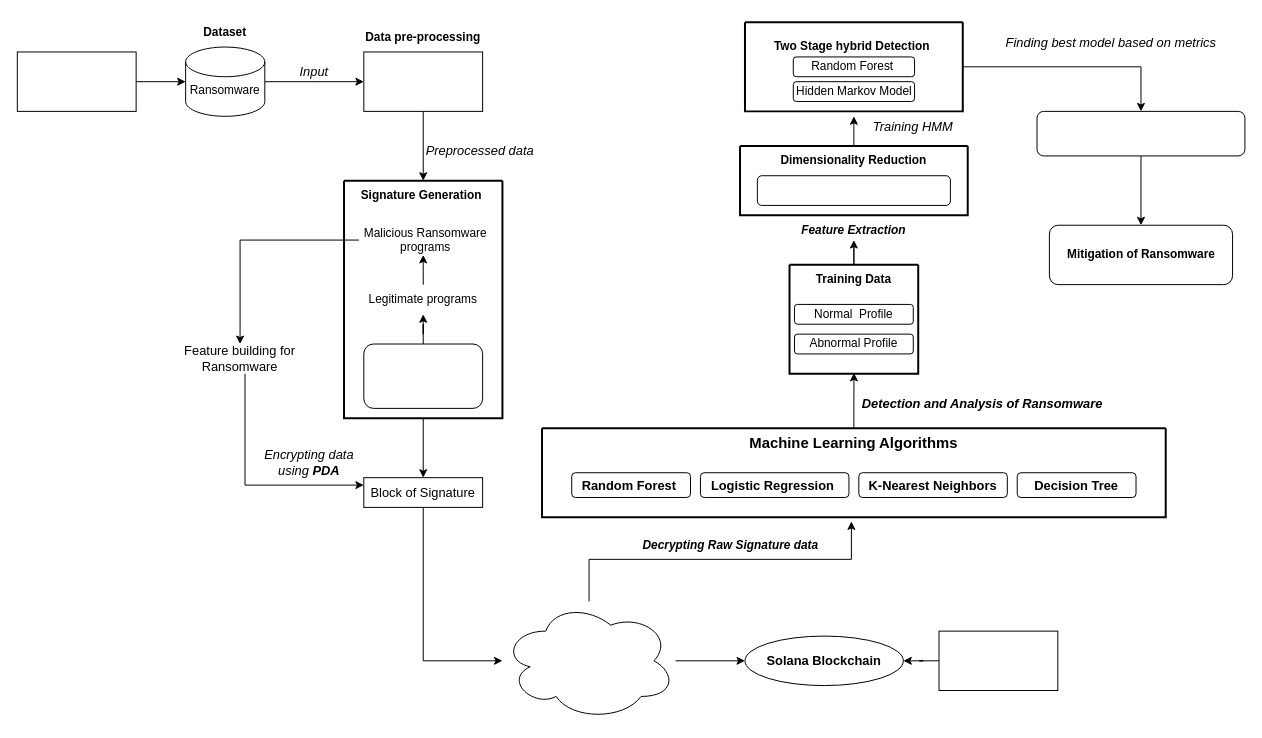
The diagram is 1262 pixels wide and 738 high, and some of its shapes have lost their labels. Each missing label, with the box of its shape:
Data Backup: (938, 630, 1058, 691)
Honey pot Systems: (16, 51, 136, 111)
Merge Best model with HMM: (1036, 110, 1245, 156)
Peer-to-Peer Cloud server Network (P2PCS): (501, 600, 676, 720)
Principal Component Analysis (PCA): (756, 175, 950, 205)
Program derived address (PDA): (363, 343, 483, 408)
Removing Abnormalities: (363, 51, 483, 111)
